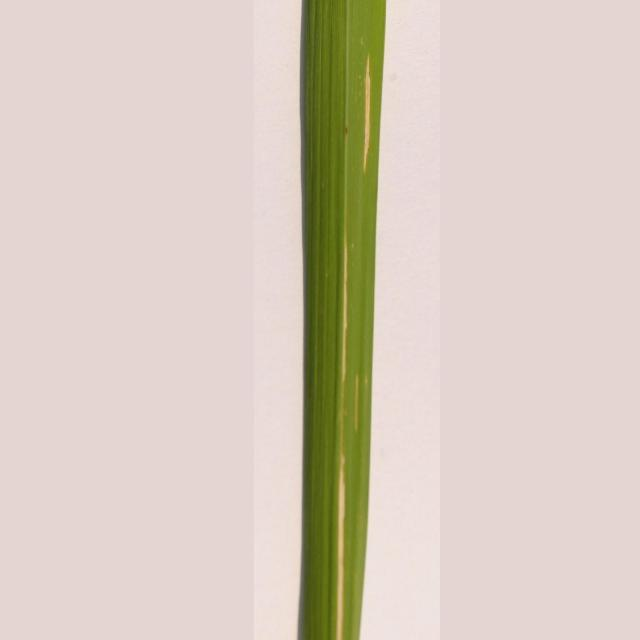leaf blight: (323, 448, 353, 640), (332, 242, 365, 397), (349, 50, 382, 183)
